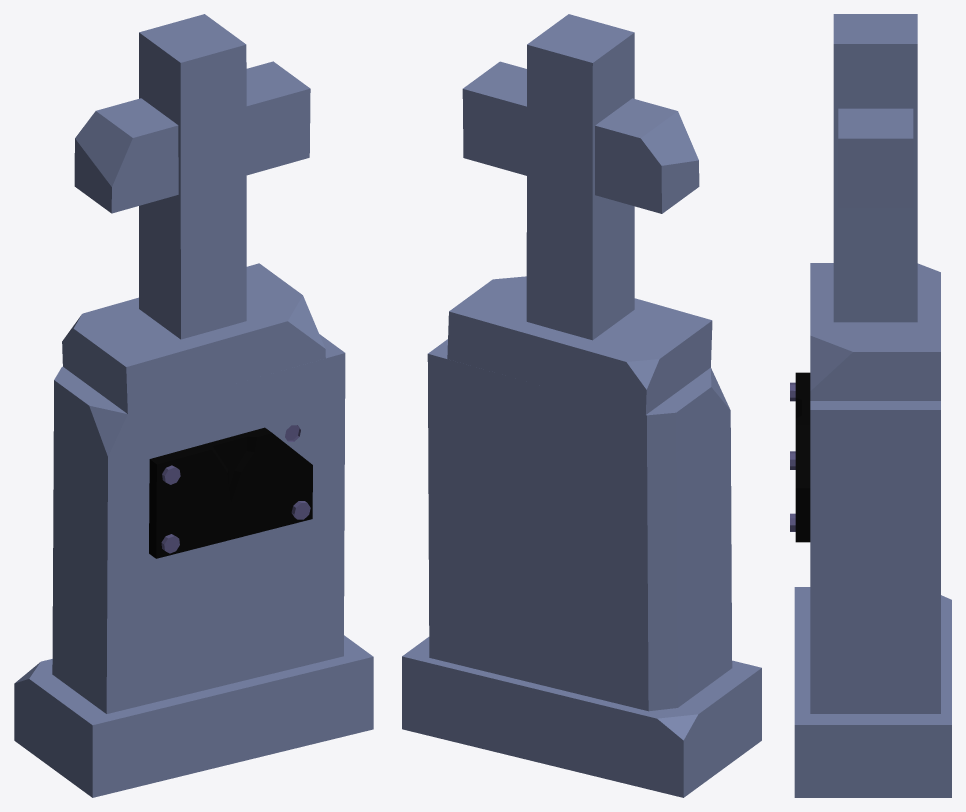
The model's file is Toombstone_04.fbx.
3 renders of one model, left to right at view 1: azimuth 30°, elevation 25°; view 2: azimuth 150°, elevation 25°; view 3: azimuth 270°, elevation 25°, orthographic.
Parts seen in each view (by area): view 1: Toombstone 4; view 2: Toombstone 4; view 3: Toombstone 4.
Boxes of the visible parts, bbox=[...] form: Toombstone 4: bbox=[14, 14, 373, 797]; Toombstone 4: bbox=[402, 14, 761, 797]; Toombstone 4: bbox=[790, 14, 951, 797].
Size of the model in its own units: 99.3 by 235 by 49.26.
